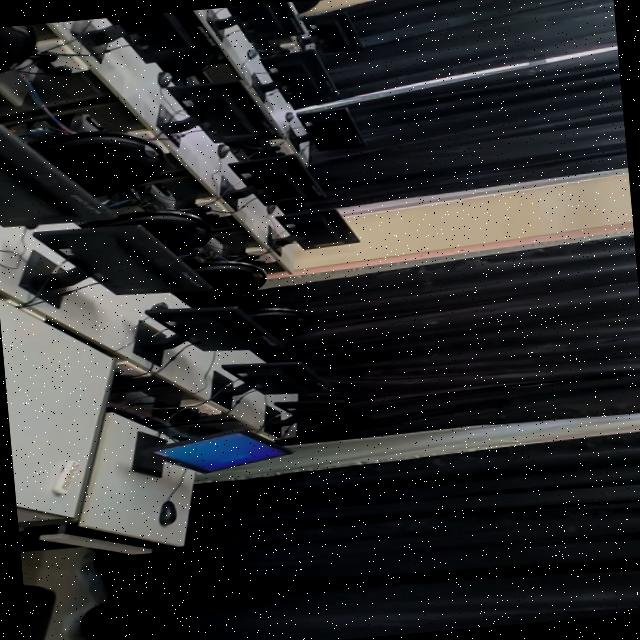Chair: (46, 122, 176, 190), (146, 210, 218, 245), (205, 255, 272, 291), (0, 24, 35, 80), (259, 306, 316, 339)
Monitor: (12, 217, 212, 306), (133, 302, 275, 363), (128, 425, 293, 477), (0, 120, 74, 229), (80, 8, 218, 65), (154, 85, 278, 146), (210, 151, 326, 207), (205, 358, 320, 402), (257, 394, 370, 438), (212, 0, 308, 43), (253, 54, 336, 101), (272, 210, 363, 252), (278, 110, 359, 155), (298, 13, 362, 54)
Mouse: (152, 498, 180, 528), (152, 68, 178, 90), (241, 46, 260, 62), (213, 144, 231, 160), (283, 110, 297, 124)
